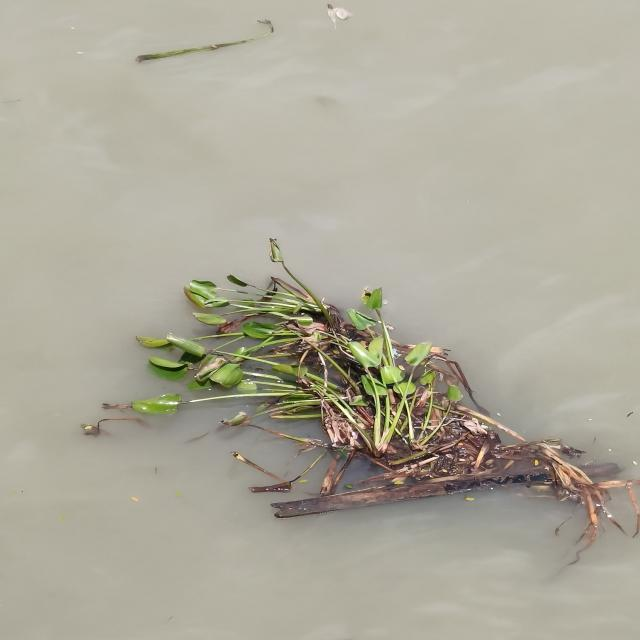Organic Debris: (72, 230, 640, 580), (264, 456, 630, 526), (129, 10, 286, 67)
Plastic: (319, 0, 358, 33)
